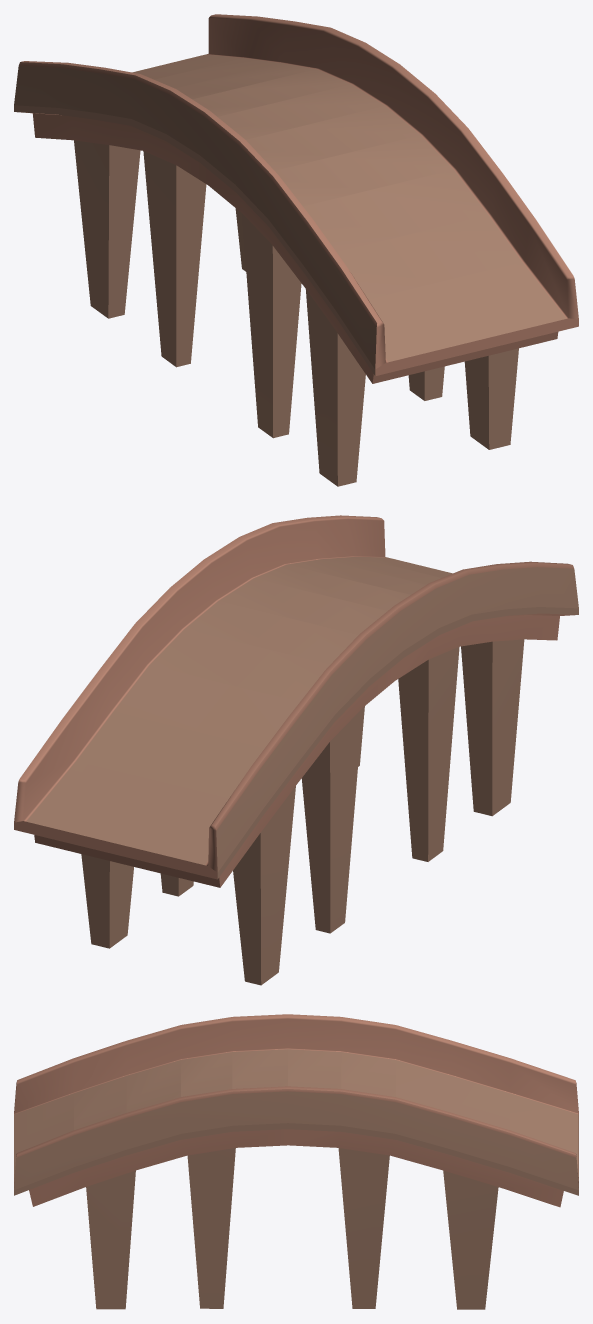
The model's file is bridge_split.fbx.
3 renders of one model, top to bottom at view 1: azimuth 30°, elevation 25°; view 2: azimuth 150°, elevation 25°; view 3: azimuth 270°, elevation 25°, orthographic. The views are drawn at different scales.
Parts seen in each view (by area): view 1: polySurface1, polySurface3, polySurface7, polySurface14, polySurface18, polySurface5, polySurface11, polySurface10, polySurface15, polySurface17; view 2: polySurface18, polySurface17, polySurface14, polySurface7, polySurface1, polySurface15, polySurface11, polySurface10, polySurface5, polySurface3; view 3: polySurface17, polySurface15, polySurface3, polySurface5, polySurface18, polySurface1, polySurface14, polySurface10, polySurface11, polySurface7.
Boxes of the visible parts, box(x1,y1,x2,y2) form: polySurface1: box(302, 220, 474, 486); polySurface3: box(402, 174, 578, 449); polySurface7: box(235, 140, 401, 438); polySurface14: box(94, 67, 264, 367); polySurface18: box(14, 61, 193, 318); polySurface5: box(335, 93, 502, 400); polySurface11: box(265, 43, 434, 155); polySurface10: box(165, 89, 334, 212); polySurface15: box(195, 21, 365, 105); polySurface17: box(132, 14, 294, 271); polySurface18: box(118, 716, 299, 985); polySurface17: box(14, 670, 199, 948); polySurface14: box(200, 634, 369, 933); polySurface7: box(340, 564, 507, 861); polySurface1: box(409, 561, 578, 816); polySurface15: box(99, 588, 269, 896); polySurface11: box(170, 537, 339, 650); polySurface10: box(271, 583, 439, 707); polySurface5: box(240, 518, 406, 599); polySurface3: box(307, 515, 452, 766); polySurface17: box(443, 1106, 578, 1309); polySurface15: box(338, 1082, 452, 1308); polySurface3: box(14, 1106, 135, 1309); polySurface5: box(125, 1083, 235, 1308); polySurface18: box(452, 1041, 578, 1150); polySurface1: box(14, 1041, 126, 1147); polySurface14: box(341, 1017, 451, 1106); polySurface10: box(232, 1014, 341, 1082); polySurface11: box(232, 1080, 341, 1147); polySurface7: box(126, 1017, 232, 1106).
Bounding box in the file's own units: 130 × 176 × 399.
